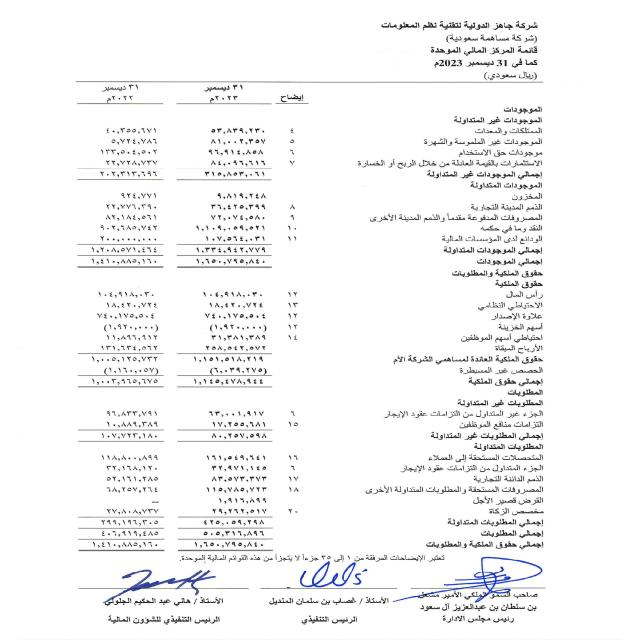financial_sheets: (426, 44, 540, 58)
table: (35, 64, 329, 566)
